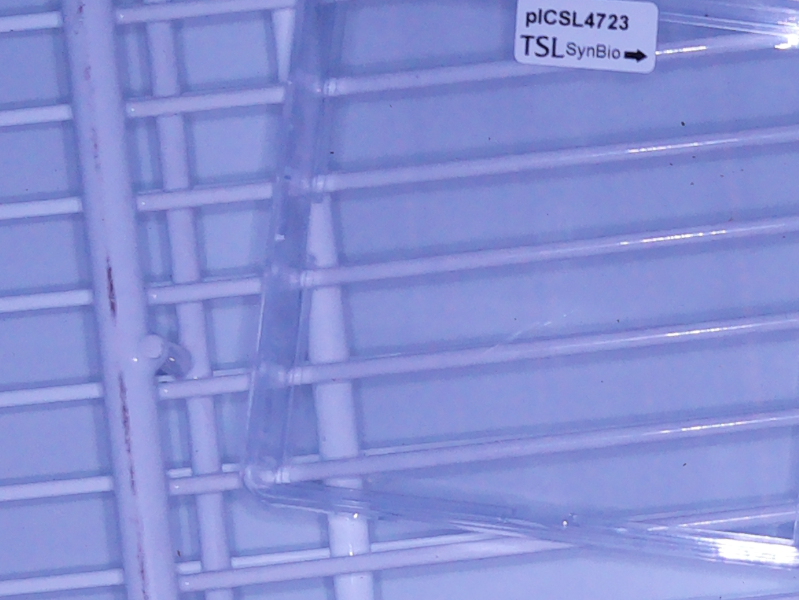plate: (239, 1, 799, 572)
